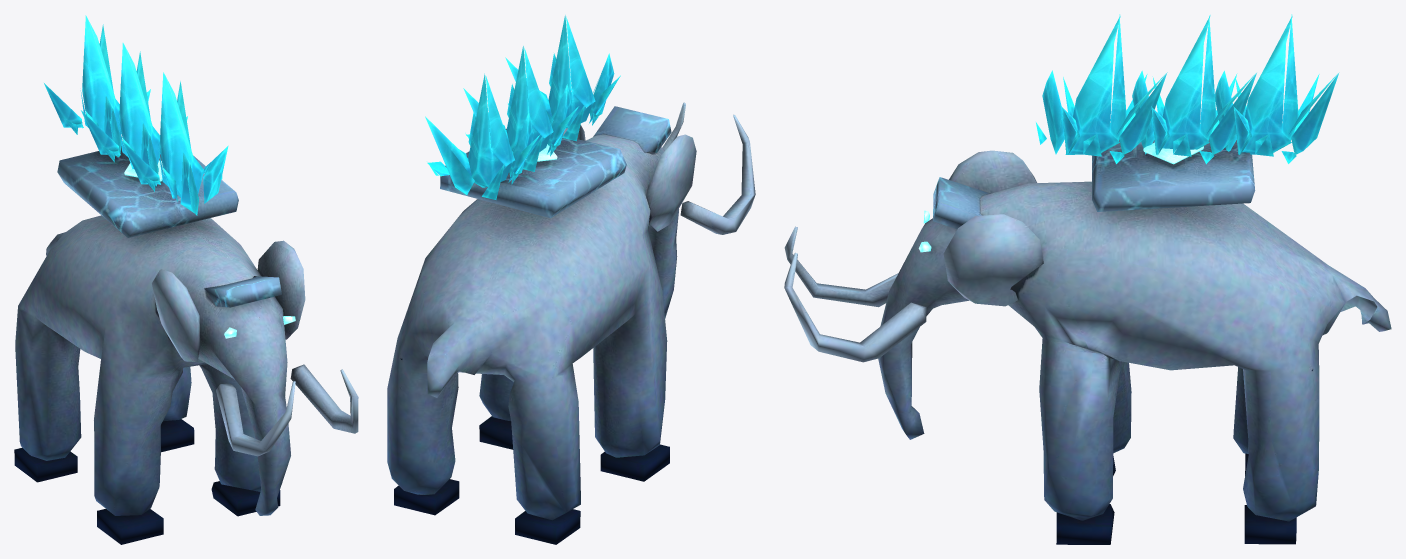
File: u_behemoth_f_g.glb
3 renders of one model, left to right at view 1: azimuth 30°, elevation 25°; view 2: azimuth 150°, elevation 25°; view 3: azimuth 270°, elevation 25°, orthographic. The views are drawn at different scales.
Parts seen in each view (by area): view 1: u_behemoth_f; view 2: u_behemoth_f; view 3: u_behemoth_f.
Part boxes in pixels (x1,y1,x2,y2): u_behemoth_f: [14, 15, 358, 544]; u_behemoth_f: [387, 15, 755, 544]; u_behemoth_f: [784, 14, 1391, 544].
Size of the model in its own units: 1.51 by 3.57 by 4.06.
2 materials, 2 textured.
